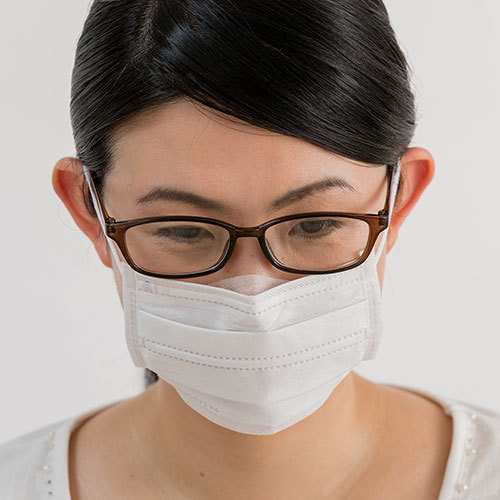mask: (124, 283, 392, 433)
